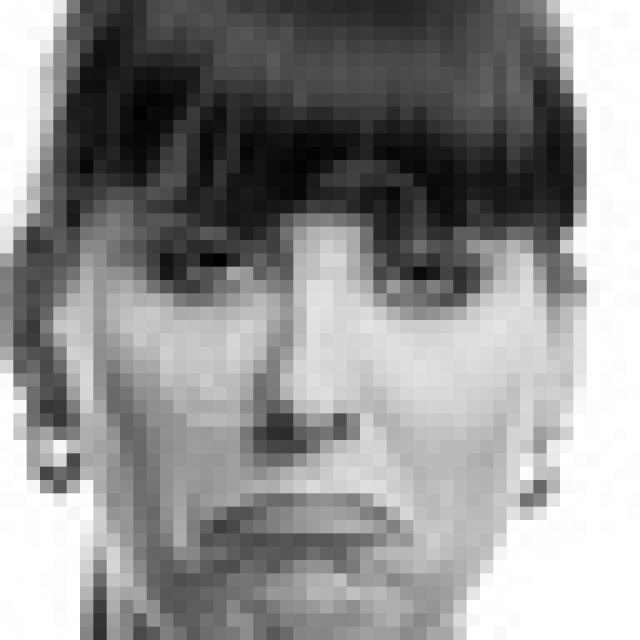sad: (91, 177, 513, 588)
